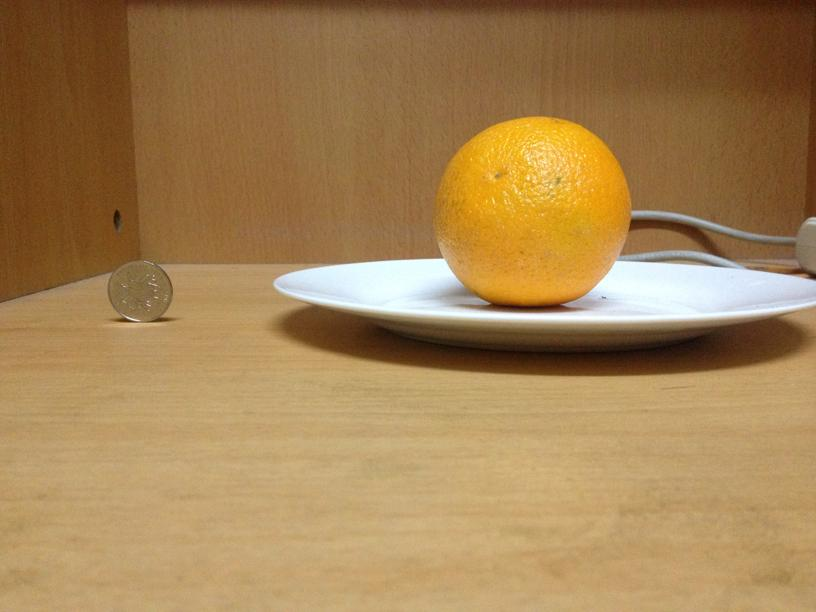coin: (106, 258, 173, 320)
orange: (434, 114, 631, 307)
